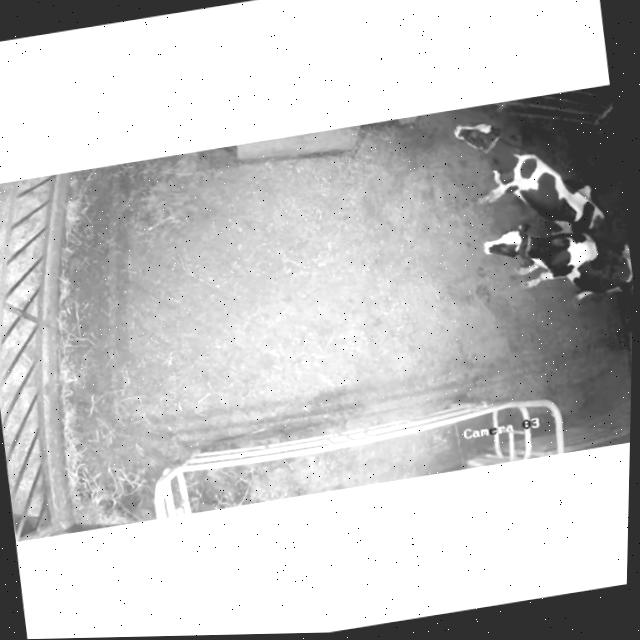stand: (454, 123, 604, 231), (484, 224, 633, 300)
